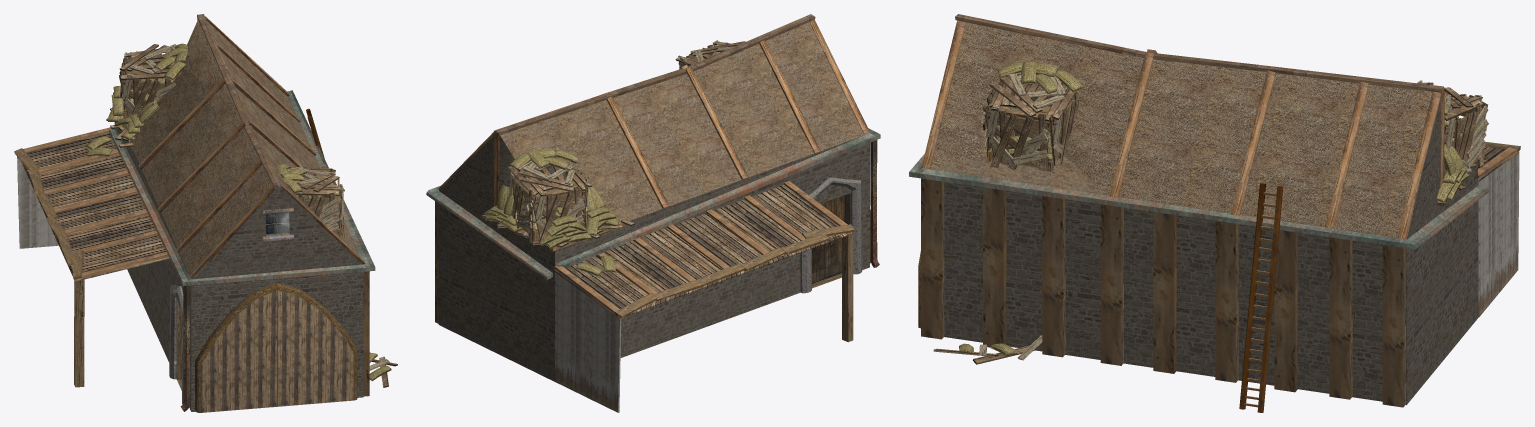
File: Casa2.fbx
3 views of the same model, side by side, from view 1: azimuth 30°, elevation 25°; view 2: azimuth 150°, elevation 25°; view 3: azimuth 270°, elevation 25° (orthographic). The views are drawn at different scales.
Parts seen in each view (by area): view 1: Object001; view 2: Object001; view 3: Object001.
Part boxes in pixels (x1,y1,x2,y2): Object001: (14,14,397,412); Object001: (426,14,880,412); Object001: (909,14,1520,412).
Bounding box in the file's own units: 911 × 626 × 1194.
